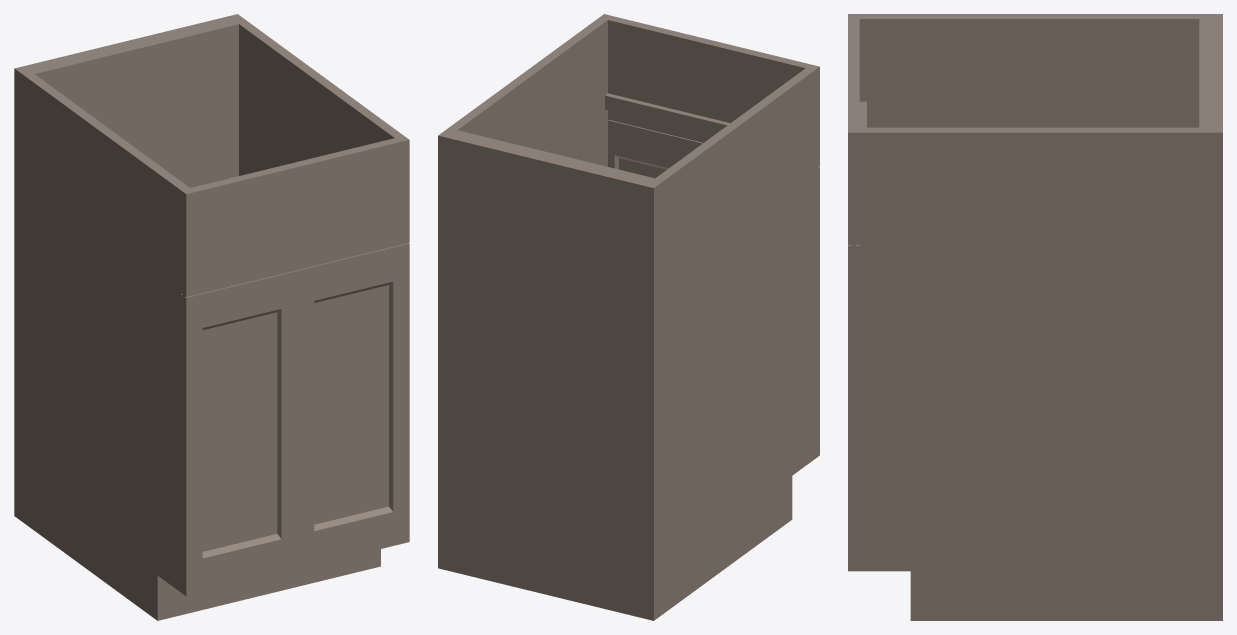
The model's file is Sink-Base-Cabinet-Double-Door-False-Drawer_std_001_W18in.glb.
The picture shows the model from 3 angles, left to right: view 1: azimuth 30°, elevation 25°; view 2: azimuth 150°, elevation 25°; view 3: azimuth 270°, elevation 25°; orthographic projection. The views are drawn at different scales.
Parts seen in each view (by area): view 1: Sink-Base-Cabinet-Double-Door-False-Drawer.std.001_W18in; view 2: Sink-Base-Cabinet-Double-Door-False-Drawer.std.001_W18in; view 3: Sink-Base-Cabinet-Double-Door-False-Drawer.std.001_W18in.
Part boxes in pixels (x1,y1,x2,y2): Sink-Base-Cabinet-Double-Door-False-Drawer.std.001_W18in: [14, 14, 409, 620]; Sink-Base-Cabinet-Double-Door-False-Drawer.std.001_W18in: [438, 14, 819, 620]; Sink-Base-Cabinet-Double-Door-False-Drawer.std.001_W18in: [848, 14, 1222, 620].
Bounding box in the file's own units: 0.4572 × 0.8763 × 0.6096.
